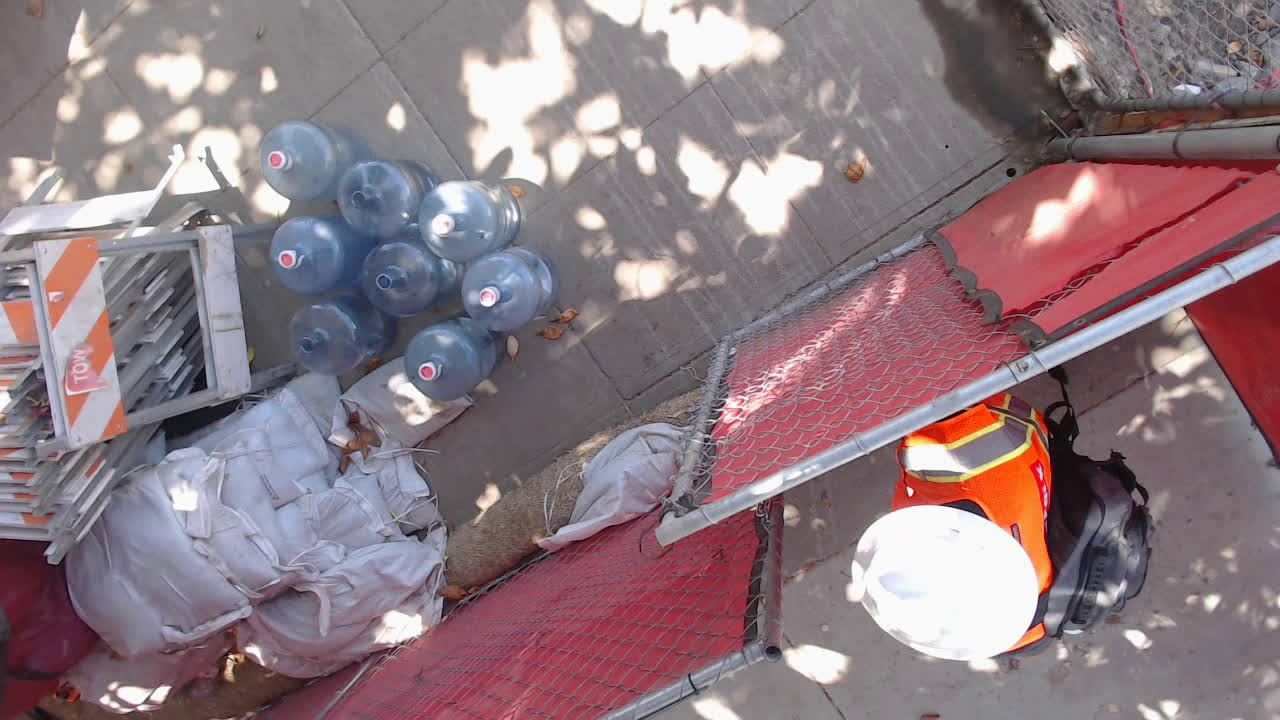hardhat: (852, 505, 1040, 660)
safetyvest: (889, 395, 1050, 654)
